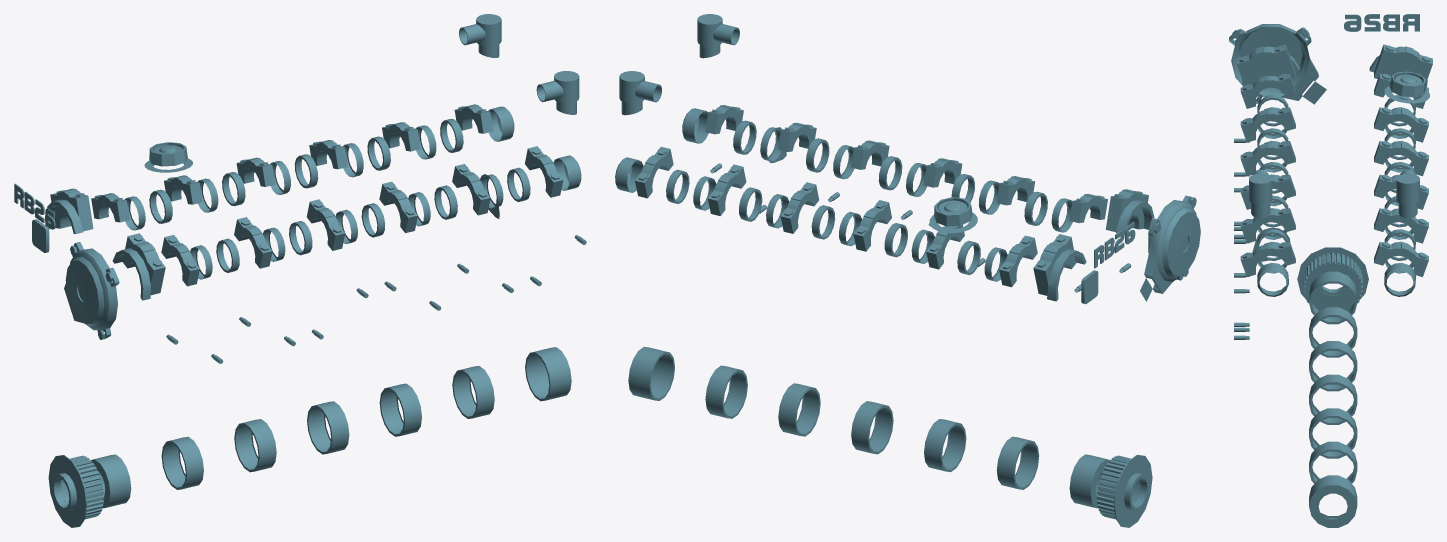
3 renders of one model, left to right at view 1: azimuth 30°, elevation 25°; view 2: azimuth 150°, elevation 25°; view 3: azimuth 270°, elevation 25°, orthographic. The views are drawn at different scales.
Visible parts, largest first — view 1: rb26_stock_reference.001_rb26_stock_reference.001_rb26_stoc.003; view 2: rb26_stock_reference.001_rb26_stock_reference.001_rb26_stoc.003; view 3: rb26_stock_reference.001_rb26_stock_reference.001_rb26_stoc.003.
Part boxes in pixels (x1,y1,x2,y2): rb26_stock_reference.001_rb26_stock_reference.001_rb26_stoc.003: (14, 14, 586, 527); rb26_stock_reference.001_rb26_stock_reference.001_rb26_stoc.003: (615, 14, 1200, 527); rb26_stock_reference.001_rb26_stock_reference.001_rb26_stoc.003: (1229, 14, 1432, 527).
Bounding box in the file's own units: 40.27 × 27.48 × 14.7.
